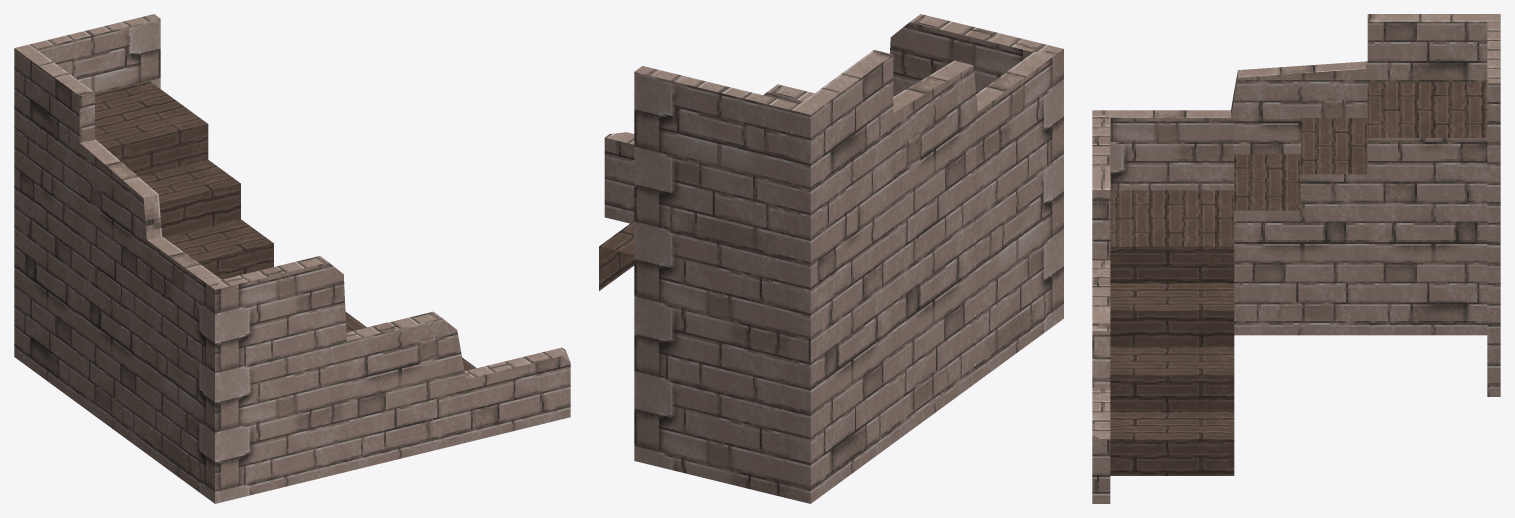
Rendered from stairs_wood_stone_corner.glb.
3 renders of one model, left to right at view 1: azimuth 30°, elevation 25°; view 2: azimuth 150°, elevation 25°; view 3: azimuth 270°, elevation 25°, orthographic. The views are drawn at different scales.
Parts seen in each view (by area): view 1: stairs_wood_stone_corner; view 2: stairs_wood_stone_corner; view 3: stairs_wood_stone_corner.
Boxes of the visible parts, x1,y1,x2,y2 form: stairs_wood_stone_corner: (14,14,570,503); stairs_wood_stone_corner: (599,14,1063,503); stairs_wood_stone_corner: (1092,14,1500,503).
Bounding box in the file's own units: 3.13 × 2.6 × 3.07.
1 material, 1 textured.
